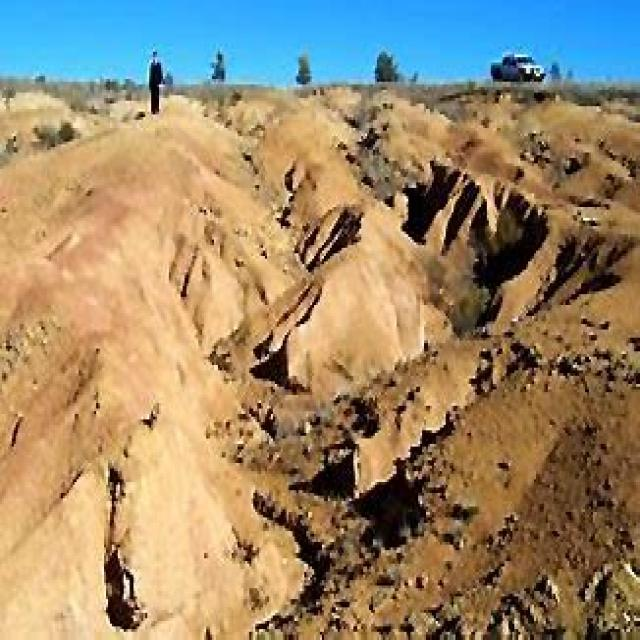Alluvial Soil: (48, 167, 606, 525)
